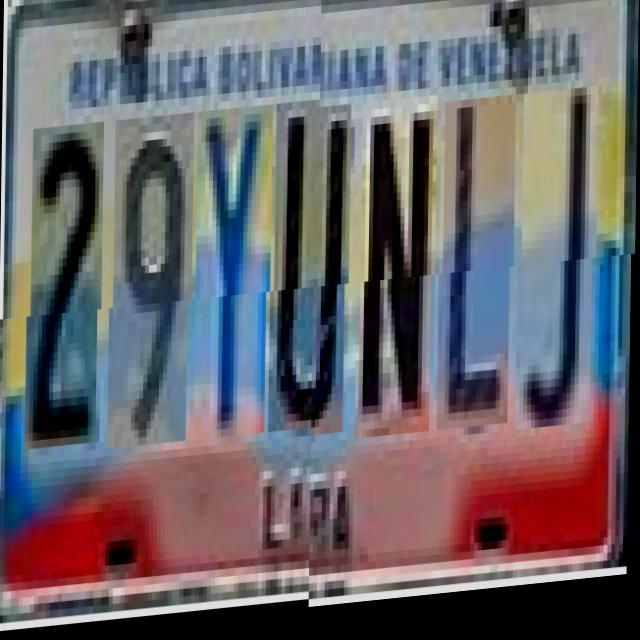2: (30, 132, 104, 458)
9: (112, 124, 194, 458)
J: (521, 99, 599, 441)
L: (442, 106, 516, 440)
N: (360, 104, 438, 447)
U: (274, 112, 352, 446)
Y: (195, 118, 273, 452)
